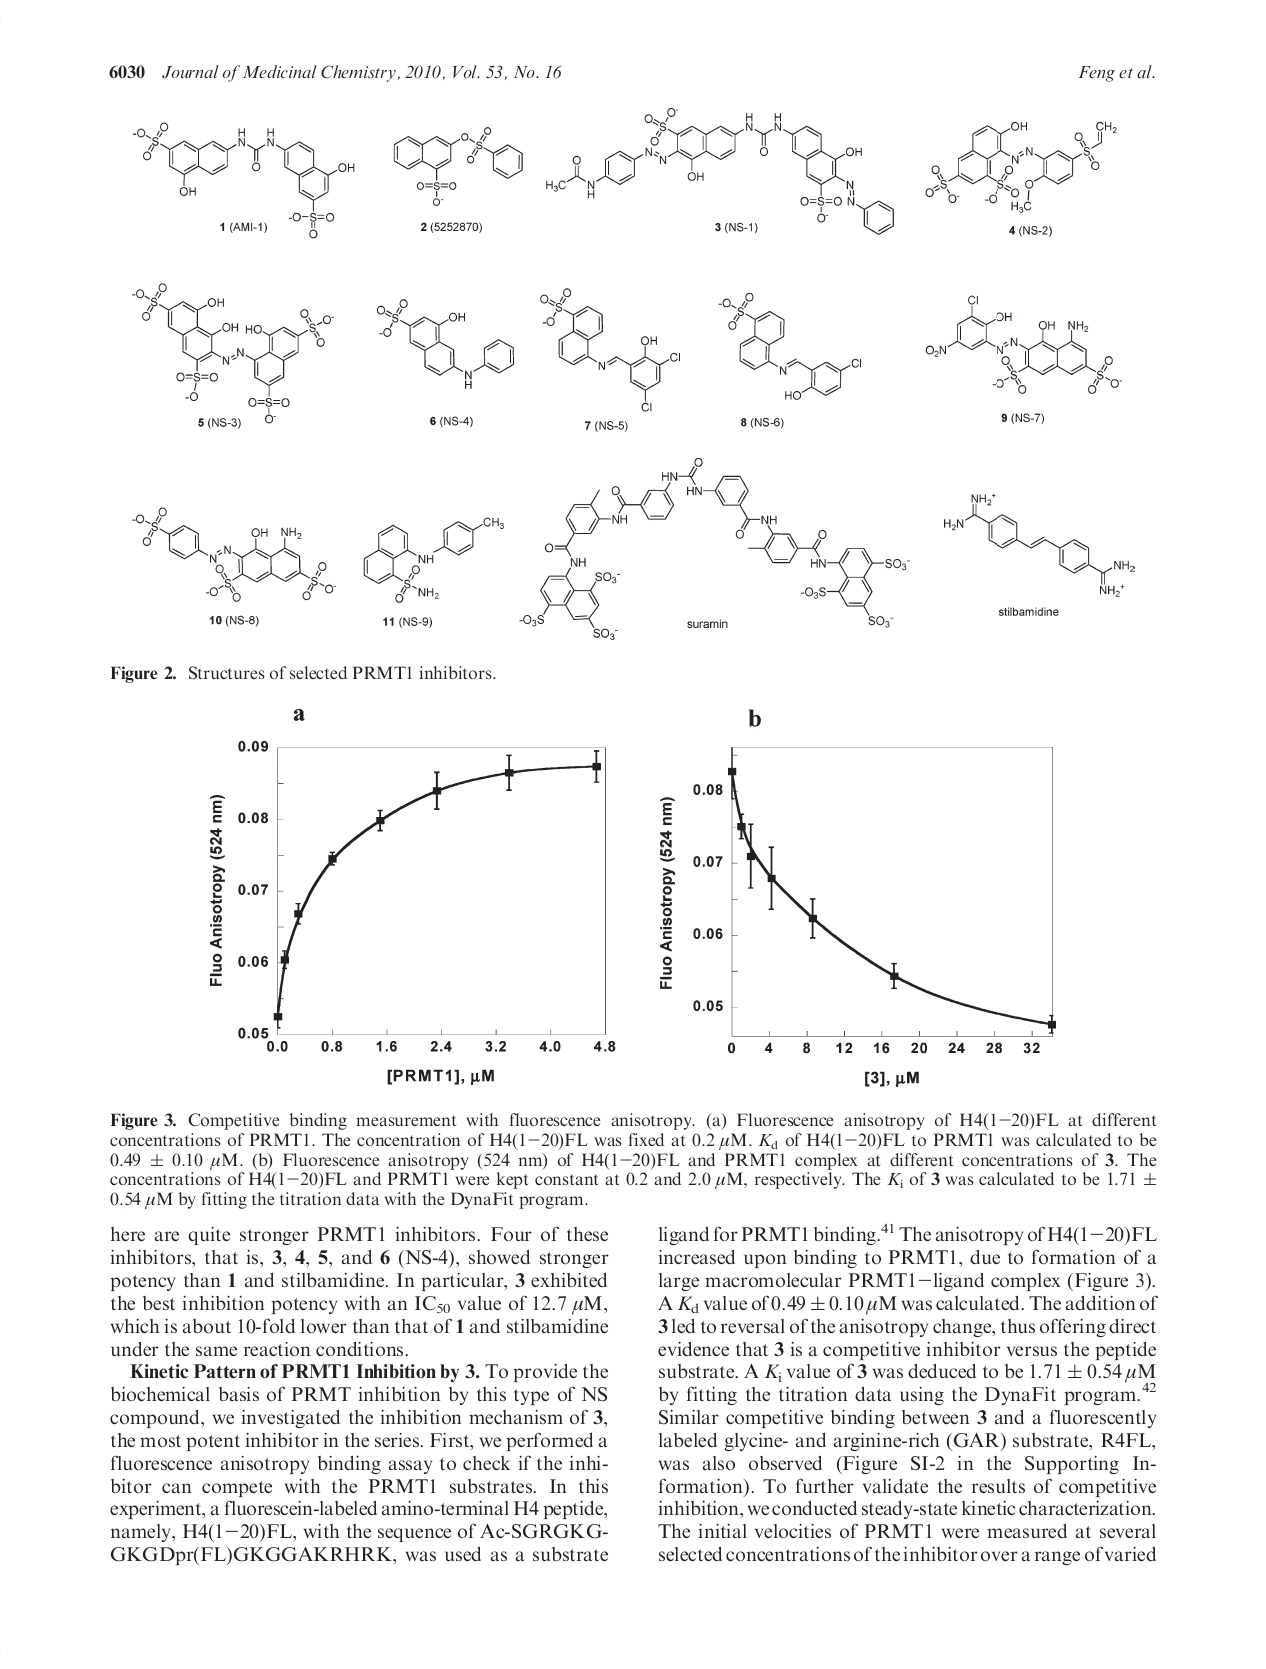exist_molecular: (515, 456, 914, 641), (544, 105, 896, 235), (130, 279, 334, 430), (129, 118, 356, 239), (940, 492, 1137, 598), (926, 294, 1126, 398), (130, 505, 339, 604), (539, 286, 685, 415), (924, 118, 1118, 211), (719, 290, 863, 404), (370, 295, 516, 391), (364, 511, 505, 602), (390, 125, 525, 206)
